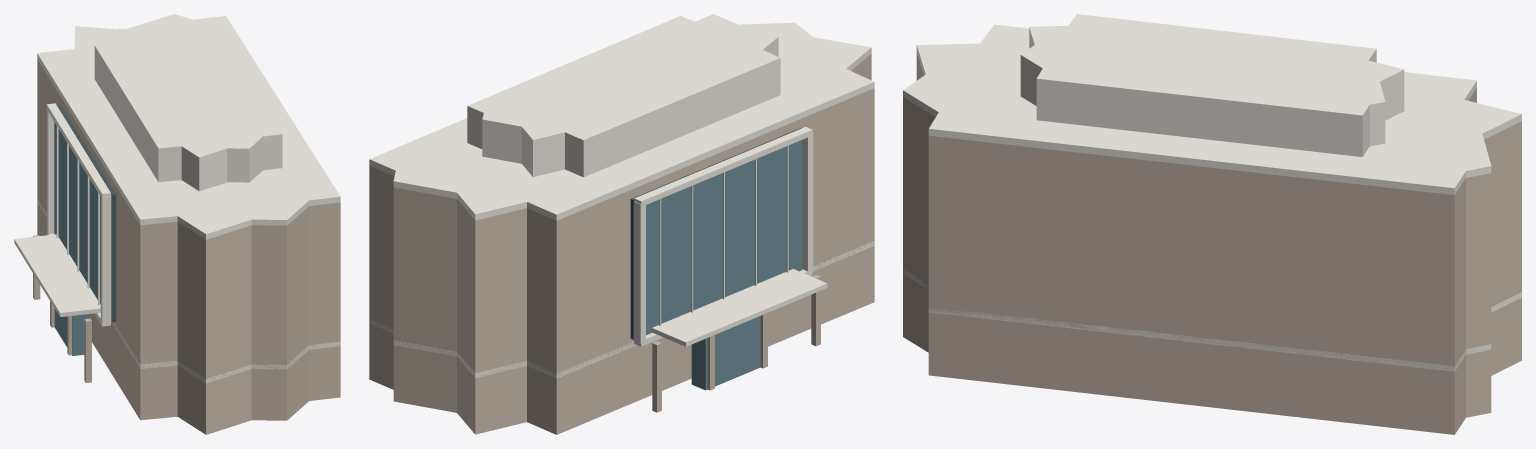
The model's file is taio.glb.
The picture shows the model from 3 angles, left to right: view 1: azimuth 30°, elevation 25°; view 2: azimuth 150°, elevation 25°; view 3: azimuth 270°, elevation 25°; orthographic projection. The views are drawn at different scales.
Parts seen in each view (by area): view 1: CTH_tower, CTH_roof_slab, CTH_roof, CTH_podium, CTH_penthouse, CTH_glass, CTH_portico, CTH_frame_side_1, CTH_band, CTH_frame_top, CTH_reveal, CTH_frame_side_0 (+5 smaller); view 2: CTH_tower, CTH_roof_slab, CTH_podium, CTH_roof, CTH_glass, CTH_penthouse, CTH_portico, CTH_door, CTH_frame_top, CTH_frame_side_0, CTH_band, CTH_frame_side_1 (+3 smaller); view 3: CTH_tower, CTH_podium, CTH_roof_slab, CTH_roof, CTH_penthouse, CTH_band.
Part boxes in pixels (bbox=[...]): CTH_tower: bbox=[37, 59, 340, 382]; CTH_roof_slab: bbox=[37, 14, 340, 239]; CTH_roof: bbox=[94, 21, 282, 161]; CTH_podium: bbox=[37, 203, 340, 434]; CTH_penthouse: bbox=[94, 50, 282, 191]; CTH_glass: bbox=[54, 122, 100, 303]; CTH_portico: bbox=[14, 234, 100, 316]; CTH_frame_side_1: bbox=[100, 195, 111, 324]; CTH_band: bbox=[37, 199, 340, 383]; CTH_frame_top: bbox=[46, 103, 110, 198]; CTH_reveal: bbox=[57, 106, 116, 322]; CTH_frame_side_0: bbox=[46, 110, 54, 233]; CTH_tower: bbox=[369, 54, 874, 378]; CTH_roof_slab: bbox=[369, 14, 874, 220]; CTH_podium: bbox=[369, 246, 874, 434]; CTH_roof: bbox=[467, 16, 780, 145]; CTH_glass: bbox=[646, 140, 802, 335]; CTH_penthouse: bbox=[467, 42, 780, 177]; CTH_portico: bbox=[652, 269, 827, 346]; CTH_door: bbox=[691, 316, 760, 390]; CTH_frame_top: bbox=[634, 127, 812, 205]; CTH_frame_side_0: bbox=[633, 201, 645, 343]; CTH_band: bbox=[369, 241, 874, 378]; CTH_frame_side_1: bbox=[802, 132, 813, 272]; CTH_tower: bbox=[903, 52, 1521, 371]; CTH_podium: bbox=[903, 274, 1521, 434]; CTH_roof_slab: bbox=[903, 24, 1521, 195]; CTH_roof: bbox=[1020, 14, 1404, 120]; CTH_penthouse: bbox=[1020, 33, 1404, 156]; CTH_band: bbox=[903, 268, 1521, 371].
Bounding box in the file's own units: 29.72 × 22.85 × 44.45.
